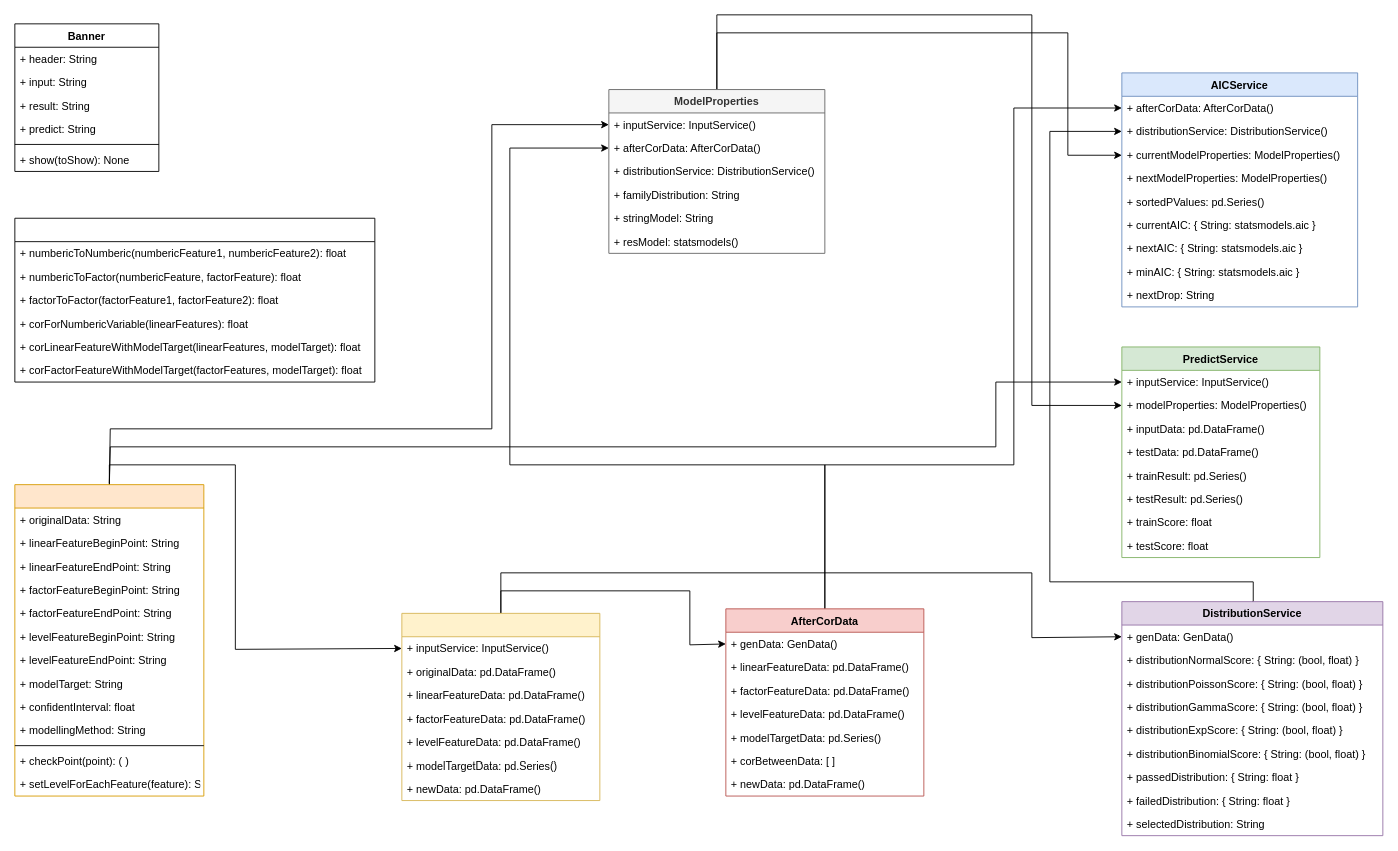
Some shapes in this 1398 by 851 pixel diagram are drawn without their labels. The box of each missing label's shape, as (x1, y1, x2, y2) in pixels:
CorrelationService: (14, 217, 375, 382)
GenData: (401, 612, 600, 801)
InputService: (14, 484, 204, 796)
